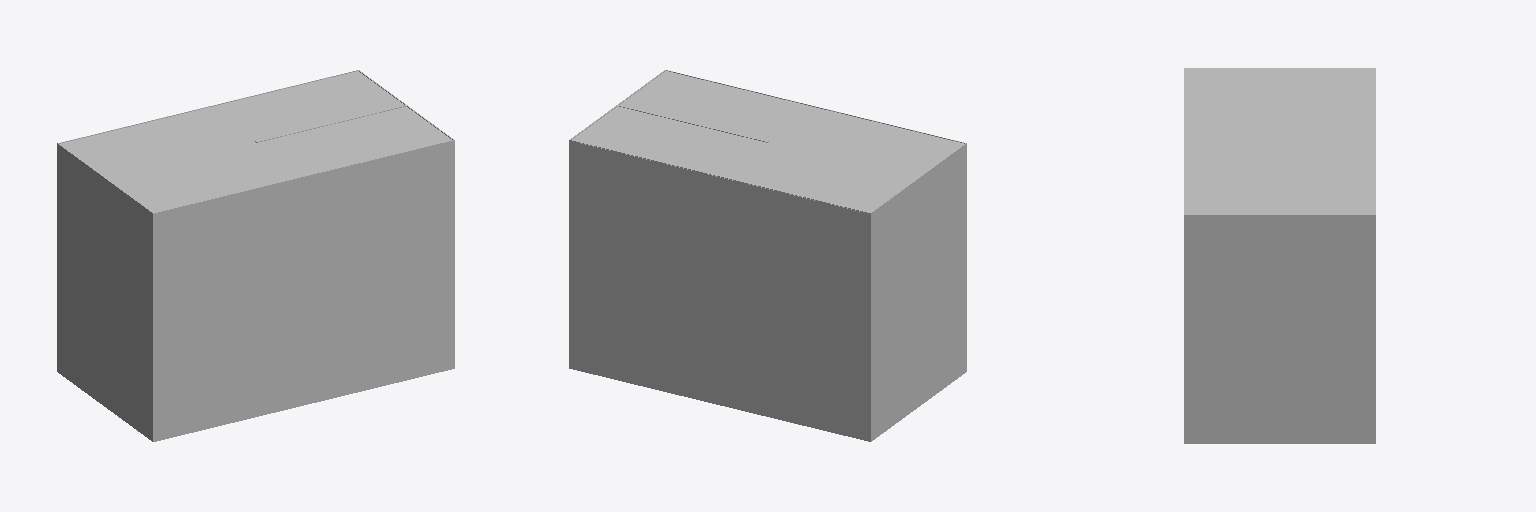
File: lvl2.obj
The picture shows the model from 3 angles: view 1: azimuth 30°, elevation 25°; view 2: azimuth 150°, elevation 25°; view 3: azimuth 270°, elevation 25°; orthographic projection.
Visible parts, largest first — view 1: Cube_Cube.001; view 2: Cube_Cube.001; view 3: Cube_Cube.001.
Part boxes in pixels (x1,y1,x2,y2): Cube_Cube.001: (57, 70, 454, 441); Cube_Cube.001: (569, 70, 966, 441); Cube_Cube.001: (1184, 68, 1375, 443).
Size of the model in its own units: 44.09 by 31.96 by 24.33.